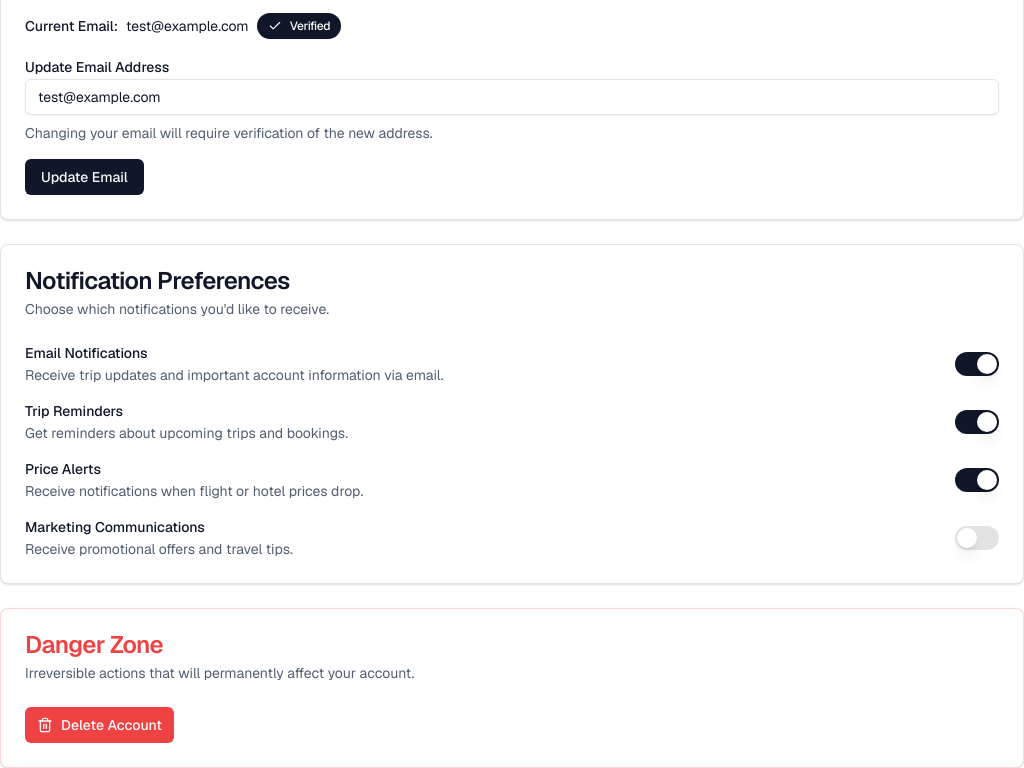
Test case: AccountSettingsSection › shows confirmation dialog for account deletion
(page scrolled)
Click the button "Delete Account": (100, 725) [25, 707, 174, 743]
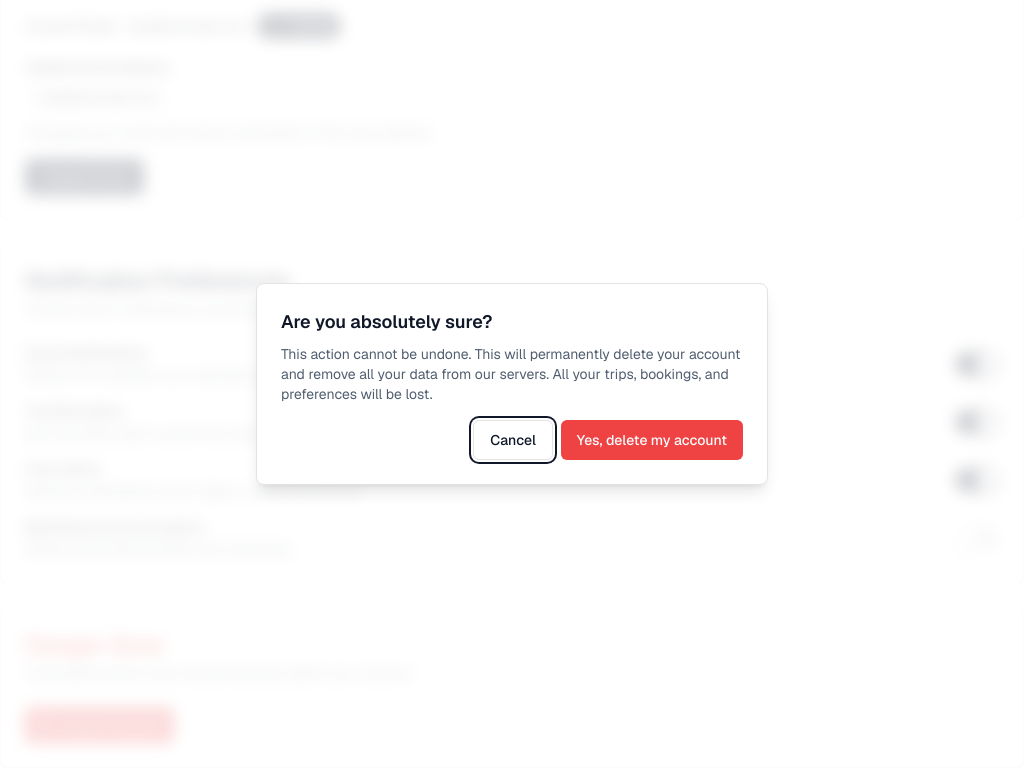
Now the heading "Are you absolutely sure?" is shown, box [281, 310, 492, 333]
Now the text "This action cannot be undone" is shown, box [281, 345, 740, 403]
